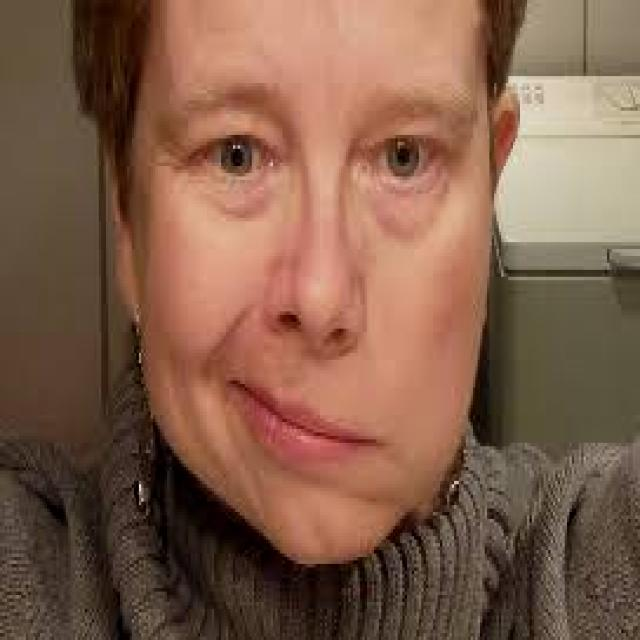stroke_face: (122, 17, 542, 595)
